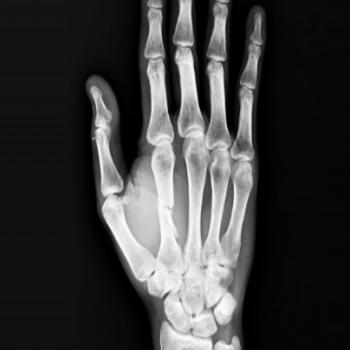Fracture: (152, 202, 184, 217)
